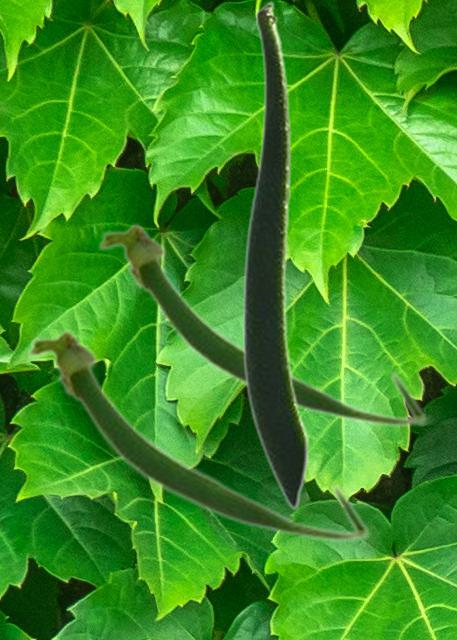french_bean: (25, 326, 370, 543), (96, 220, 427, 428), (241, 0, 309, 510)
